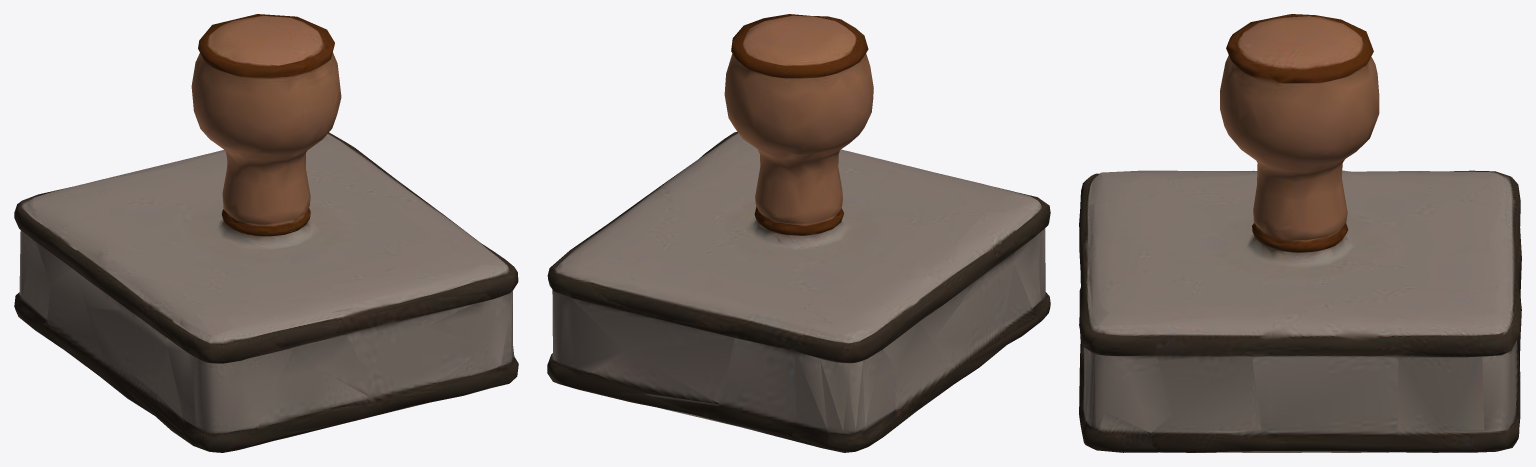
File: TW_사물_s3_dessert_part_press_pineapplecake.glb
3 views of the same model, side by side, from view 1: azimuth 30°, elevation 25°; view 2: azimuth 150°, elevation 25°; view 3: azimuth 270°, elevation 25° (orthographic). The views are drawn at different scales.
Visible parts, largest first — view 1: tripo_node_131f9ffb-5f7f-4001-bfc3-0210613278fd; view 2: tripo_node_131f9ffb-5f7f-4001-bfc3-0210613278fd; view 3: tripo_node_131f9ffb-5f7f-4001-bfc3-0210613278fd.
Boxes of the visible parts, x1=… form: tripo_node_131f9ffb-5f7f-4001-bfc3-0210613278fd: x1=14, y1=14, x2=518, y2=452; tripo_node_131f9ffb-5f7f-4001-bfc3-0210613278fd: x1=547, y1=14, x2=1050, y2=452; tripo_node_131f9ffb-5f7f-4001-bfc3-0210613278fd: x1=1079, y1=14, x2=1521, y2=452.
Size of the model in its own units: 0.3265 by 0.3082 by 0.36.
Materials: 1 (1 with a texture image).
